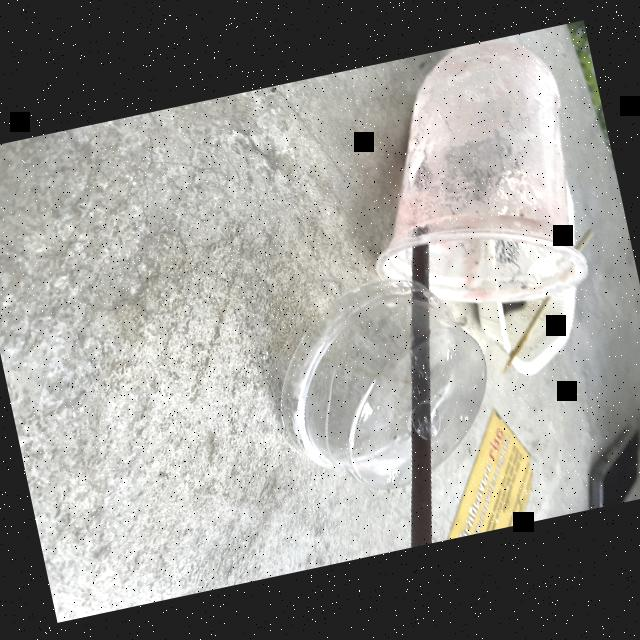plastic_cup: (332, 26, 606, 327)
plastic_cup_lid: (249, 249, 510, 509)
stick: (472, 225, 628, 388)
straw: (338, 242, 496, 548)
